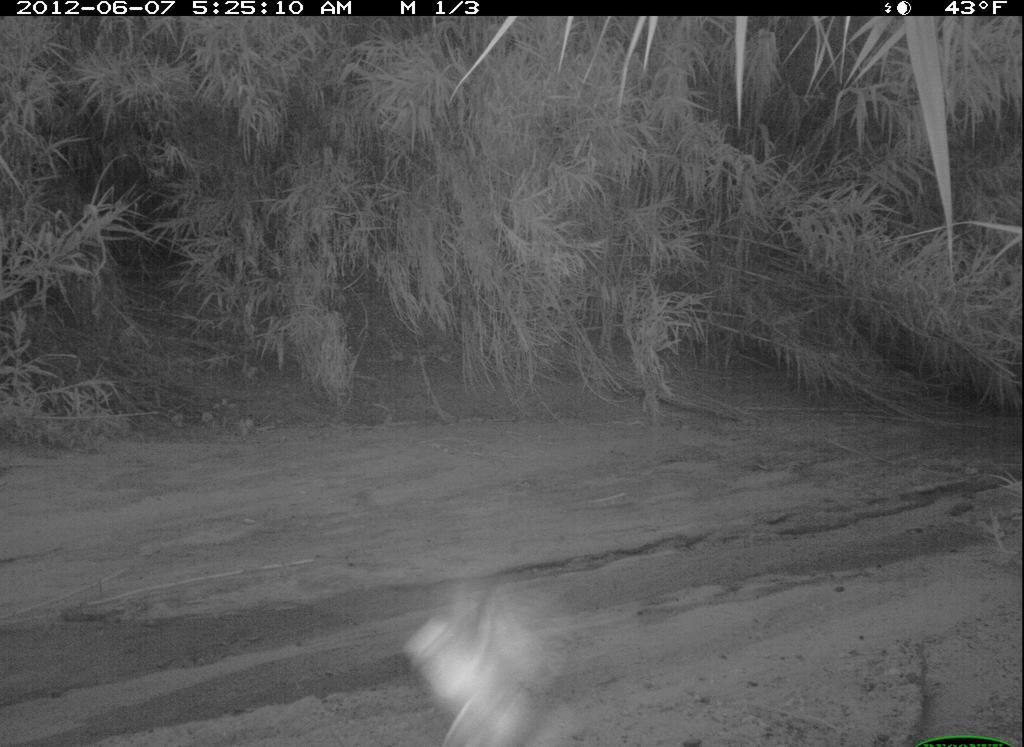bird: (388, 551, 587, 747)
